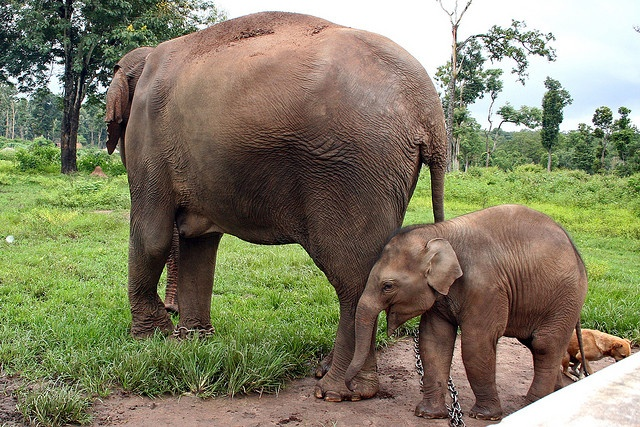elephant: (105, 11, 447, 402), (346, 203, 589, 418)
